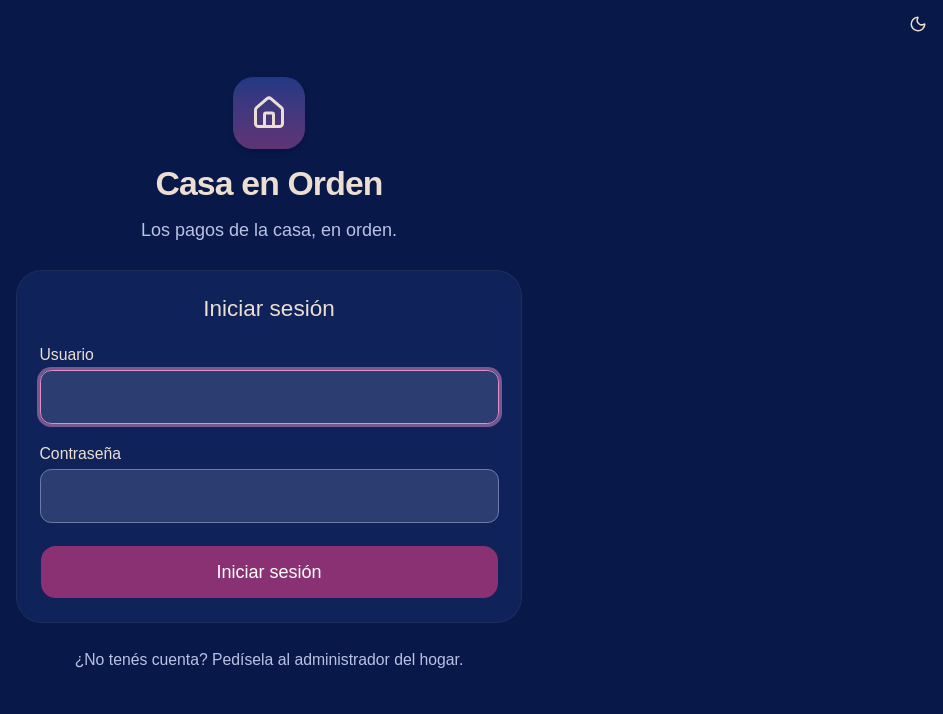
Test case: LoginPage › valida los campos antes de enviar
Click the button "Iniciar sesión" at (269,572), box [40,545,498,599]
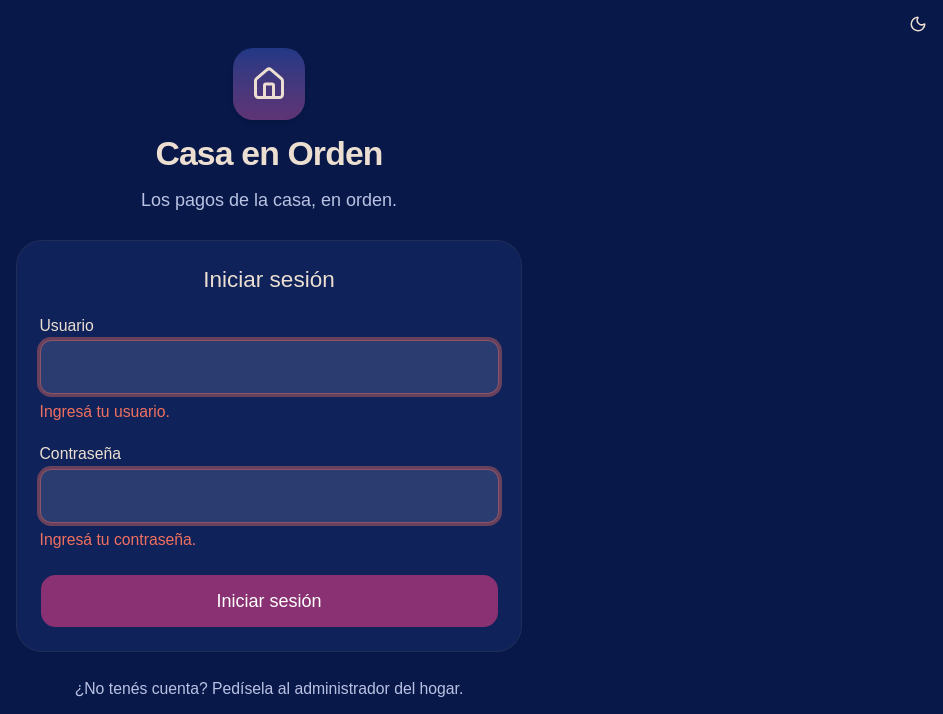
expect the text "Ingresá tu usuario." is shown: met, box [40,403,170,420]
expect the text "Ingresá tu contraseña." is shown: met, box [40,531,196,548]
